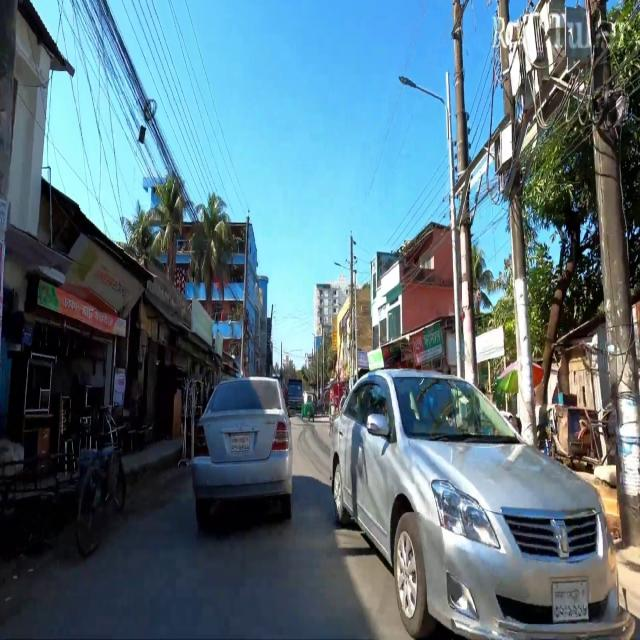silver: (329, 360, 635, 640)
white: (189, 375, 299, 525)
